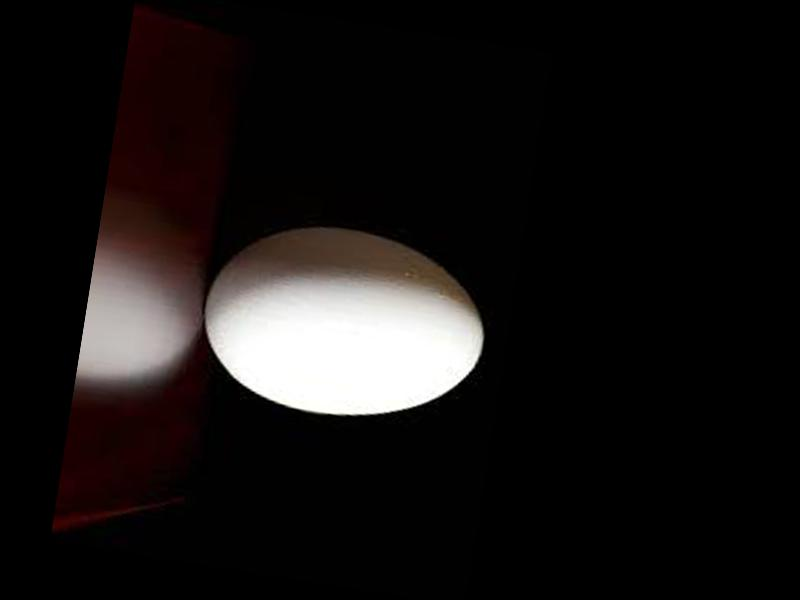Eggs: (191, 211, 496, 436)
